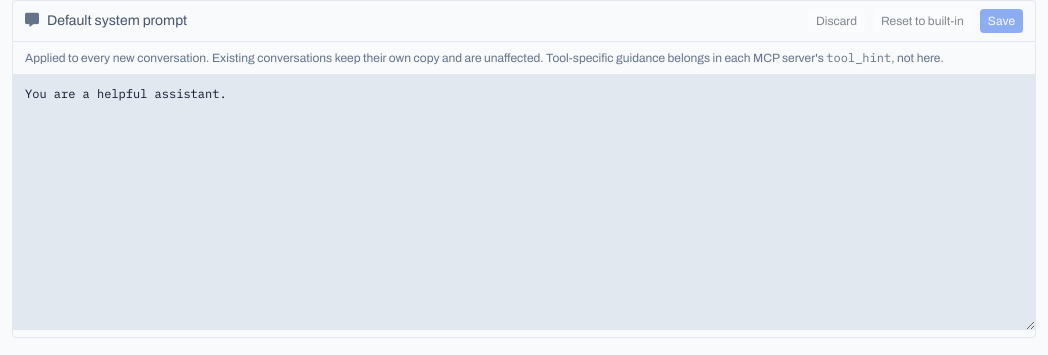
Test: DefaultPromptEditor › Discard reverts edits back to the loaded value
Replace the text in the text box with "edited". click: [524, 202]
box: [13,74,1035,330]
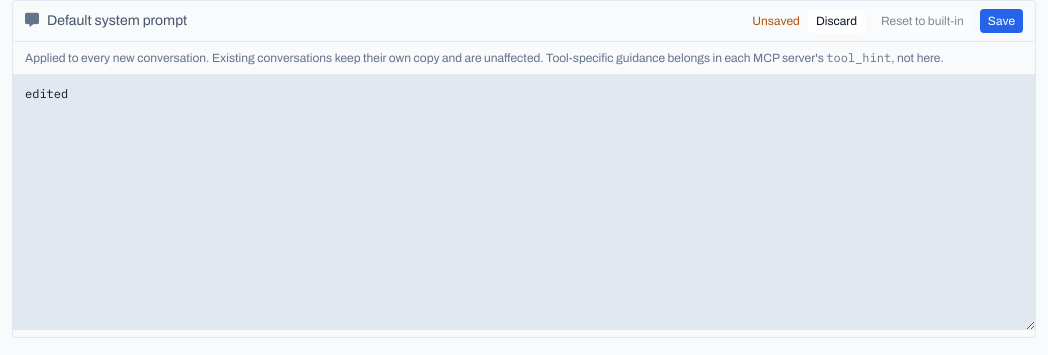
Click the button "Discard". click: [836, 21]
box: [808,9,865,33]
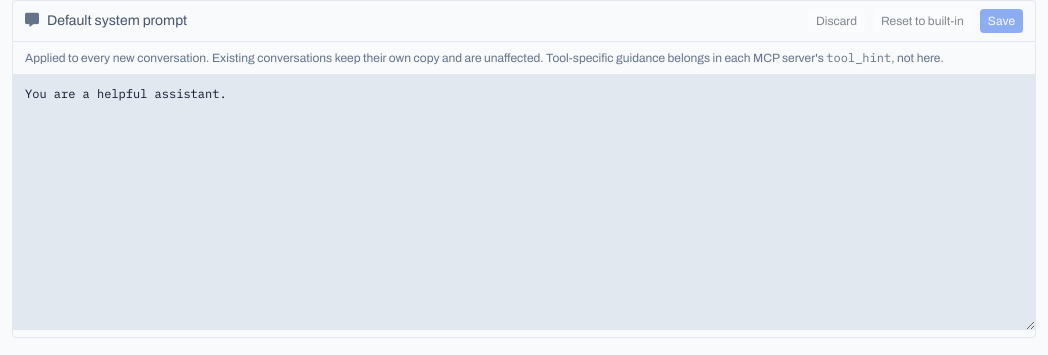
Result: the text box holds "You are a helpful assistant."
Result: the text "Unsaved" is gone
